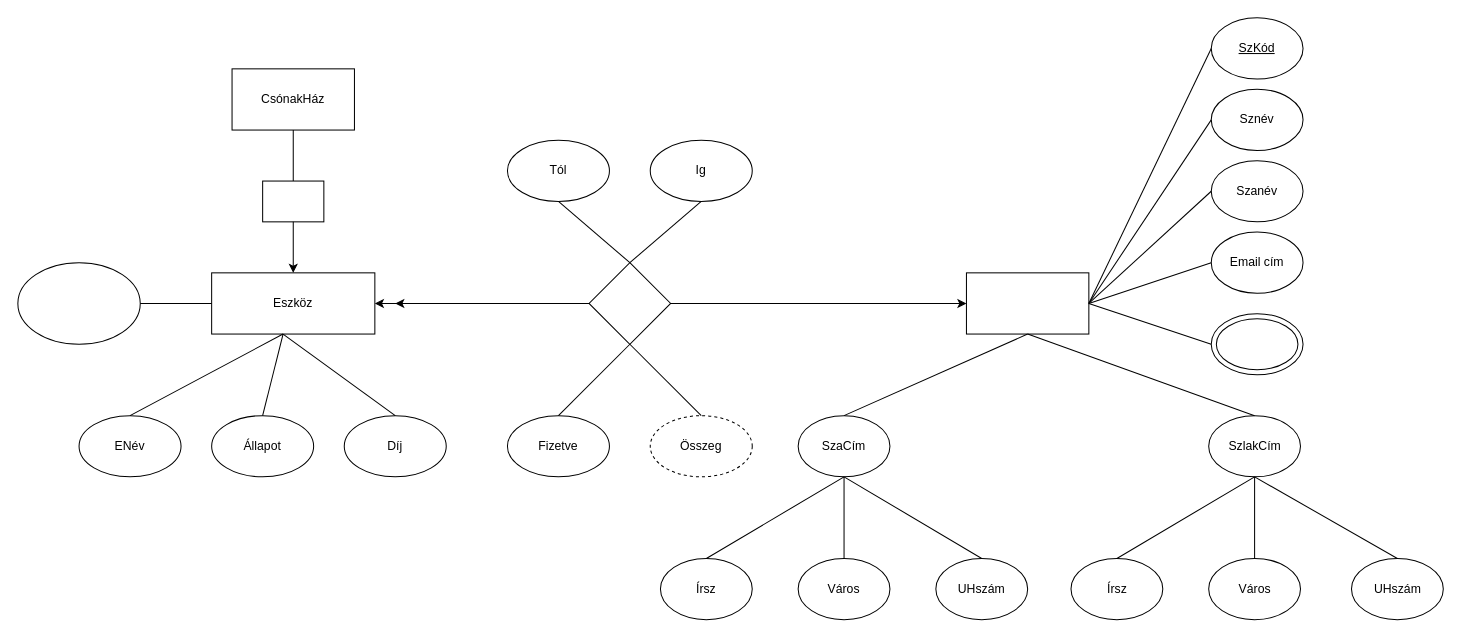
This 1462x638 diagram has some shape labels left out. The shapes that lost their labels are listed below. From the top down, each one's box as (x1, y1, x2, y2) in pixels, then its label:
(262, 180, 324, 222): HAS_A
(17, 262, 140, 344): EKód
(588, 262, 671, 344): Kölcsönzés
(965, 272, 1089, 334): Személy
(1215, 318, 1298, 370): Tszám
